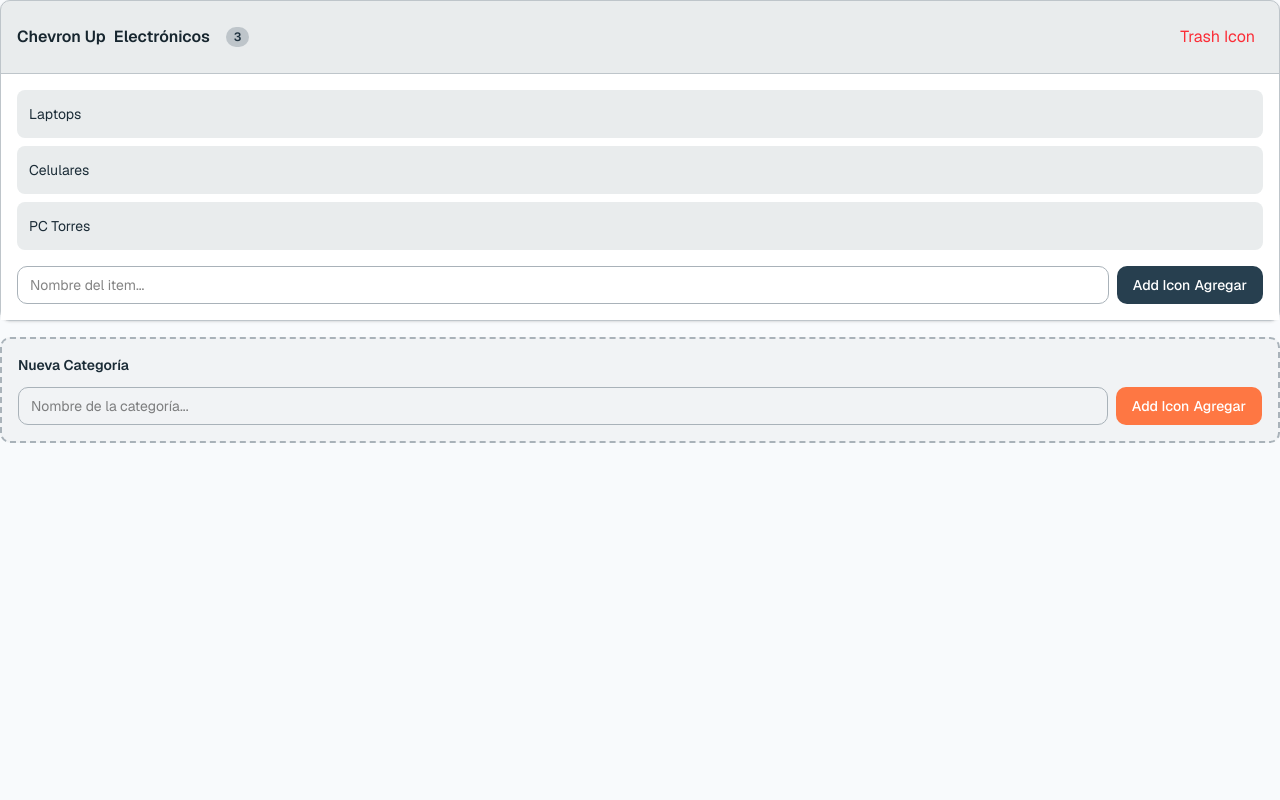
it: CategoryManager Component › Category Management › should add a new category
Type "Hogar" into the field with placeholder "Nombre de la categoría...".
click(563, 406); type("Hogar")  # box [18, 387, 1108, 425]
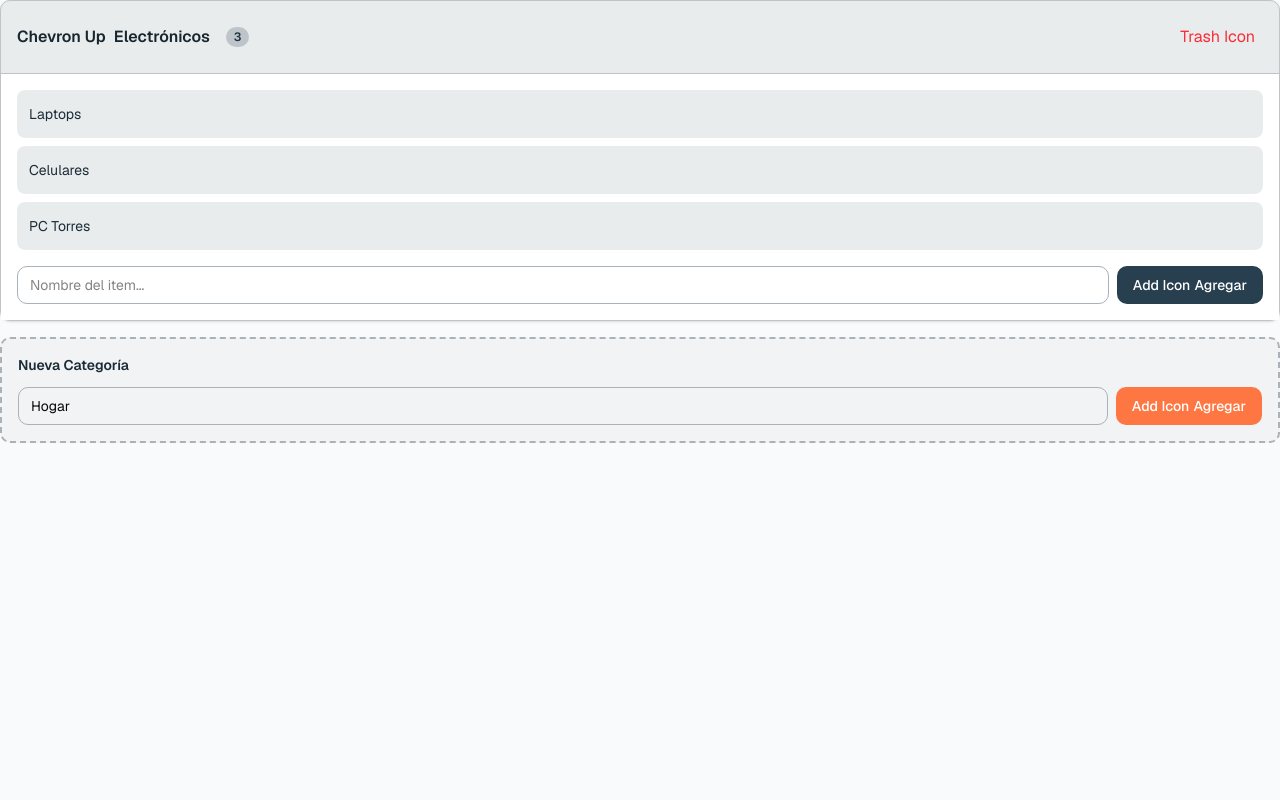
Click the 2nd text "Agregar".
click(1220, 406)  # box [1193, 396, 1246, 416]
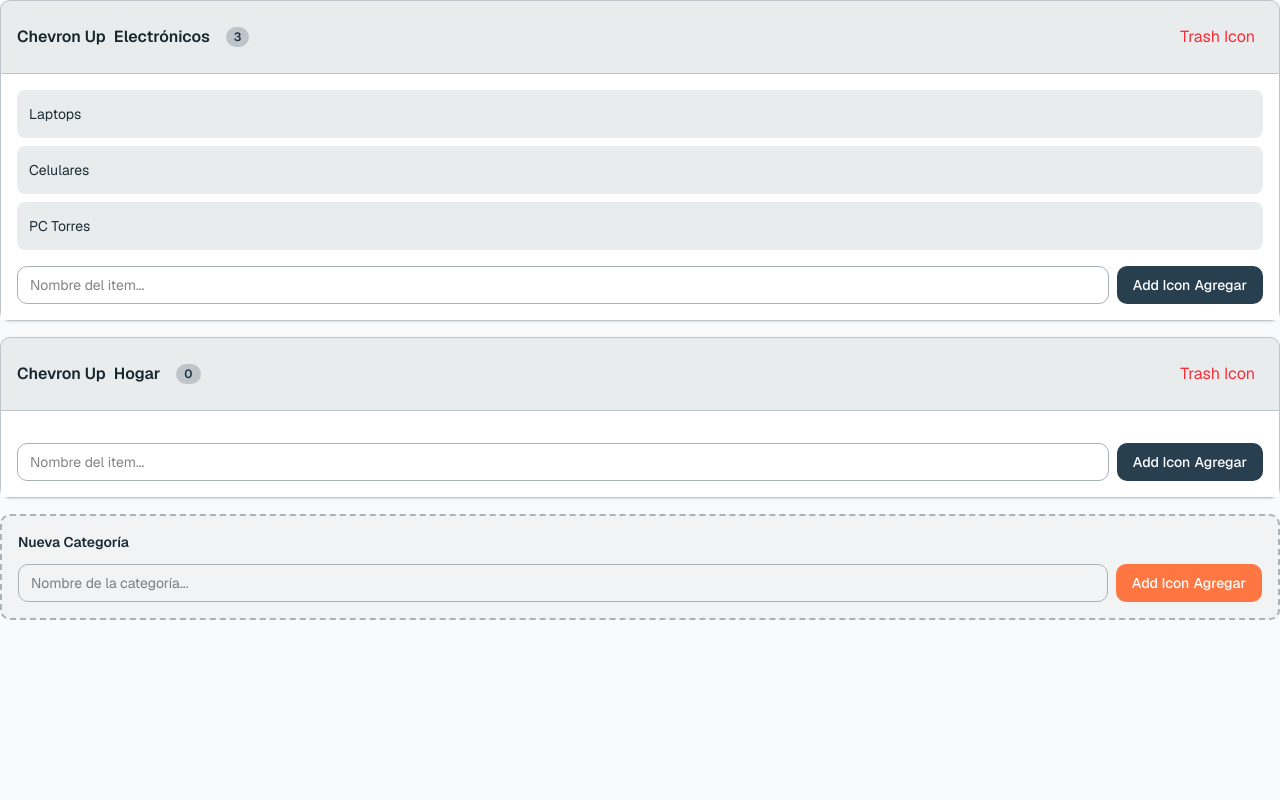
Check: the text "Hogar" is shown, box [114, 362, 160, 386]
